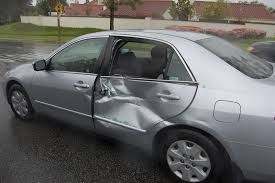Broken-glass: (108, 37, 195, 84)
Dent: (85, 75, 194, 130)
